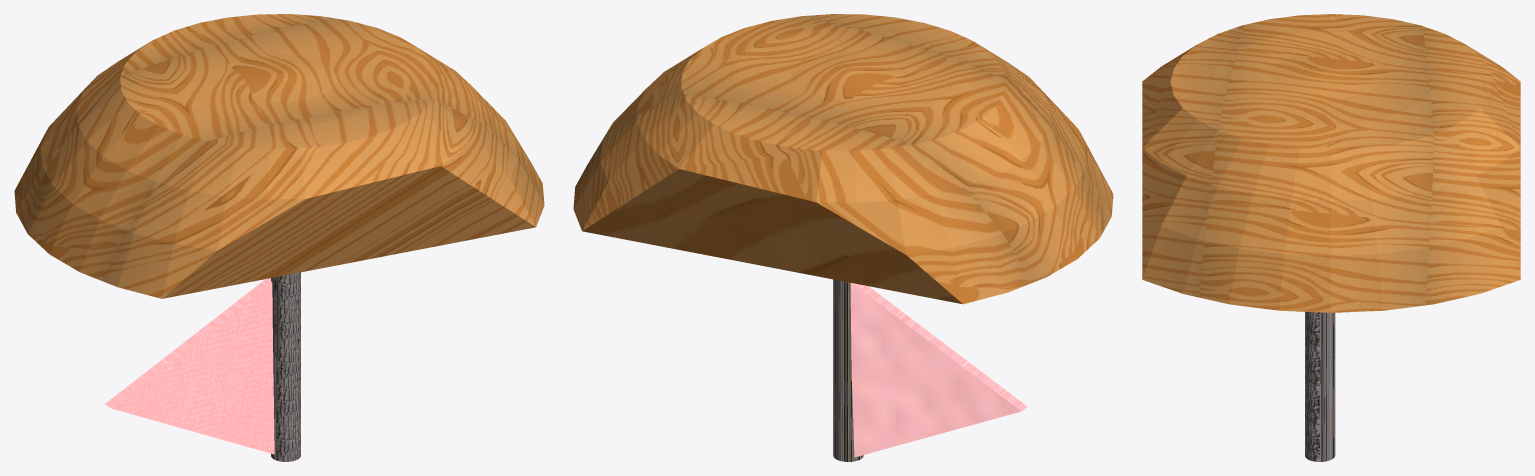
The model's file is boat.glb.
3 renders of one model, left to right at view 1: azimuth 30°, elevation 25°; view 2: azimuth 150°, elevation 25°; view 3: azimuth 270°, elevation 25°, orthographic.
Visible parts, largest first — view 1: boat, flag, flag pole; view 2: boat, flag, flag pole; view 3: boat, flag pole.
Boxes of the visible parts, x1,y1,x2,y2 form: boat: [14, 14, 544, 298]; flag: [105, 278, 274, 454]; flag pole: [271, 272, 300, 461]; boat: [573, 14, 1113, 304]; flag: [850, 282, 1027, 457]; flag pole: [833, 279, 863, 461]; boat: [1142, 14, 1520, 312]; flag pole: [1305, 312, 1335, 461].
Bounding box in the file's own units: 0.911 × 0.7205 × 0.6442.
Materials: 3 (3 with a texture image).
